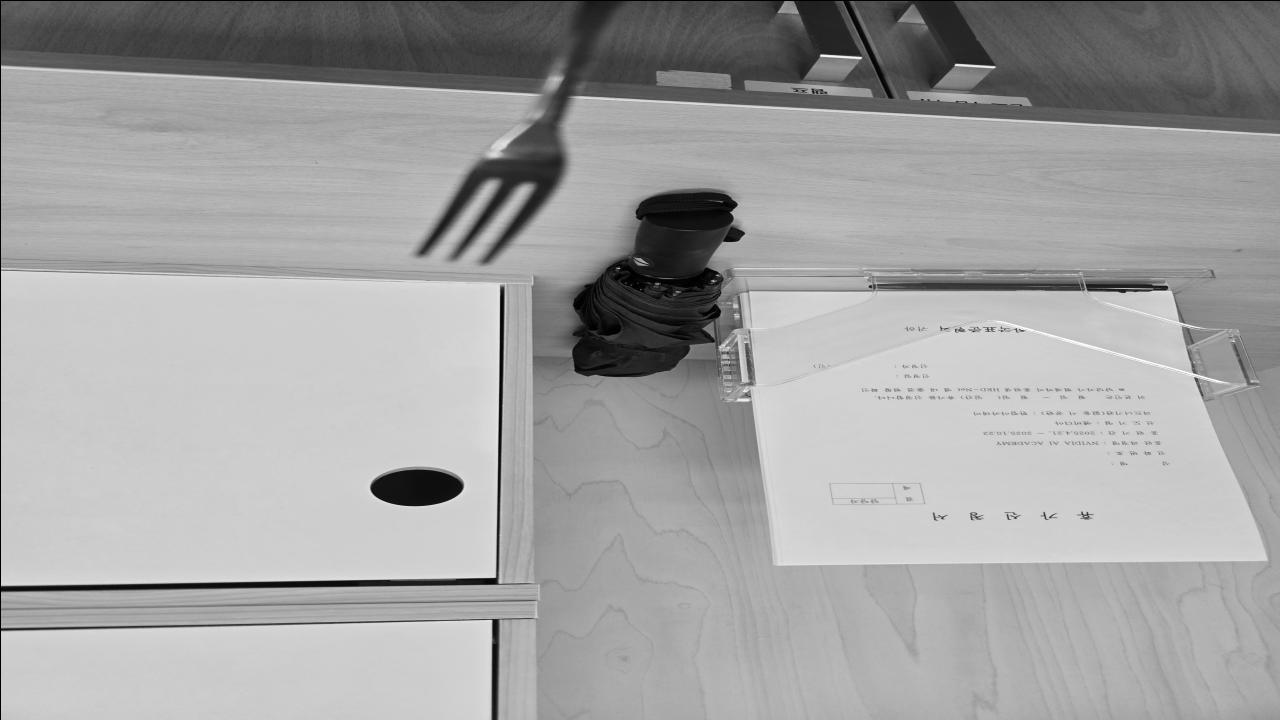fork: (409, 0, 626, 268)
